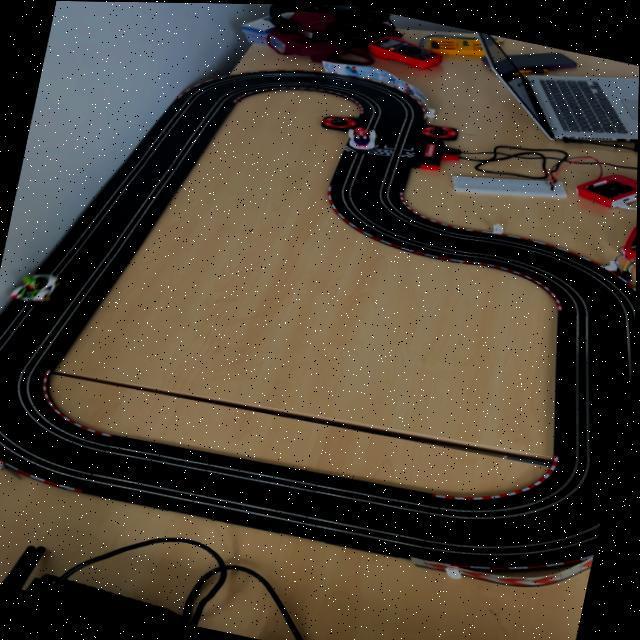mario: (342, 121, 384, 154)
yoshi: (3, 263, 69, 312)
